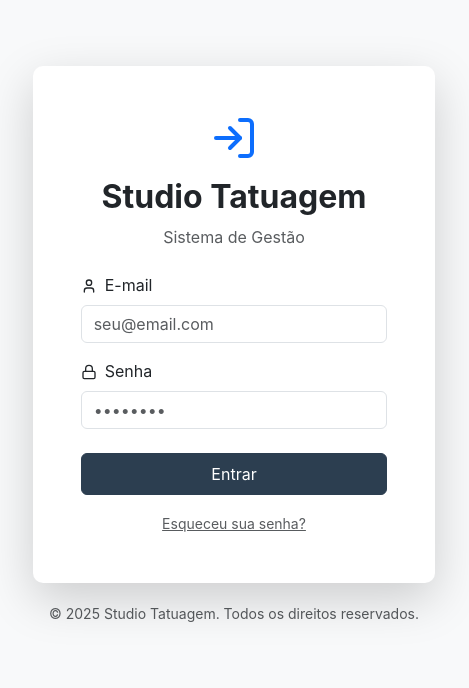
Test case: Autenticação — Testes que quebram › Backend 500 no login
In the field named "email": (235, 324) [81,305,388,343], type "admin@admin.com"
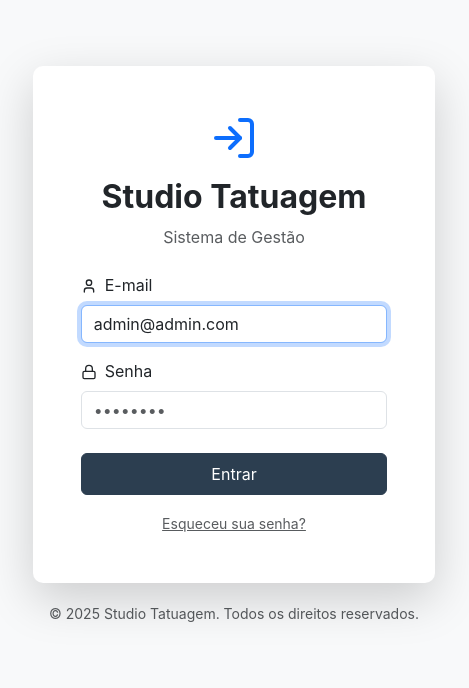
In the password field named "senha": (235, 410) [81,391,388,429], type "admin123"
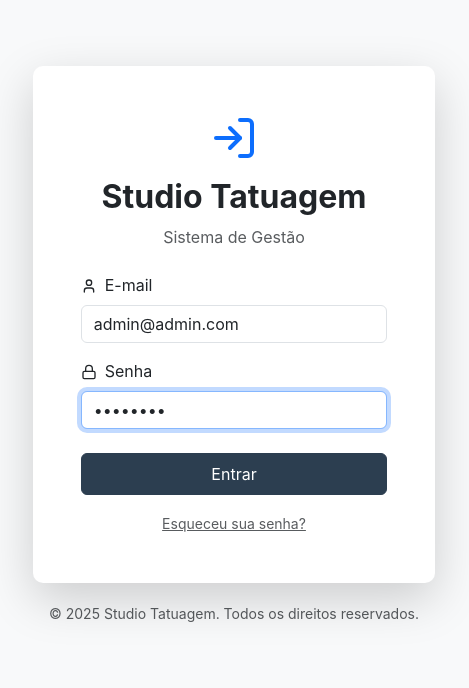
Click the button "Entrar": click(235, 474) [81,453,388,495]
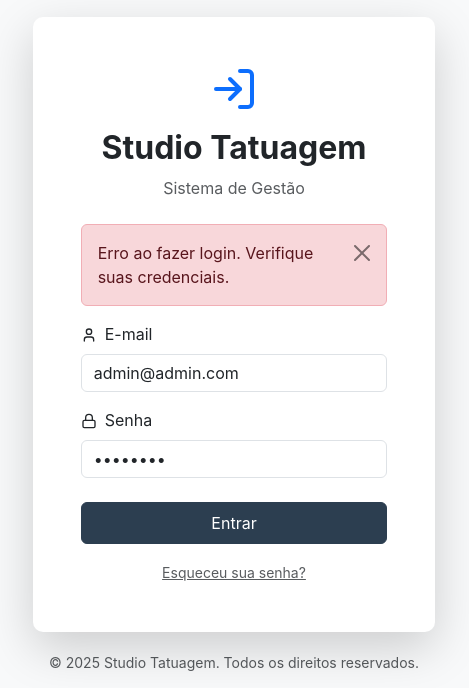
Expected: the text "Erro" is shown, [81,224,388,306]
